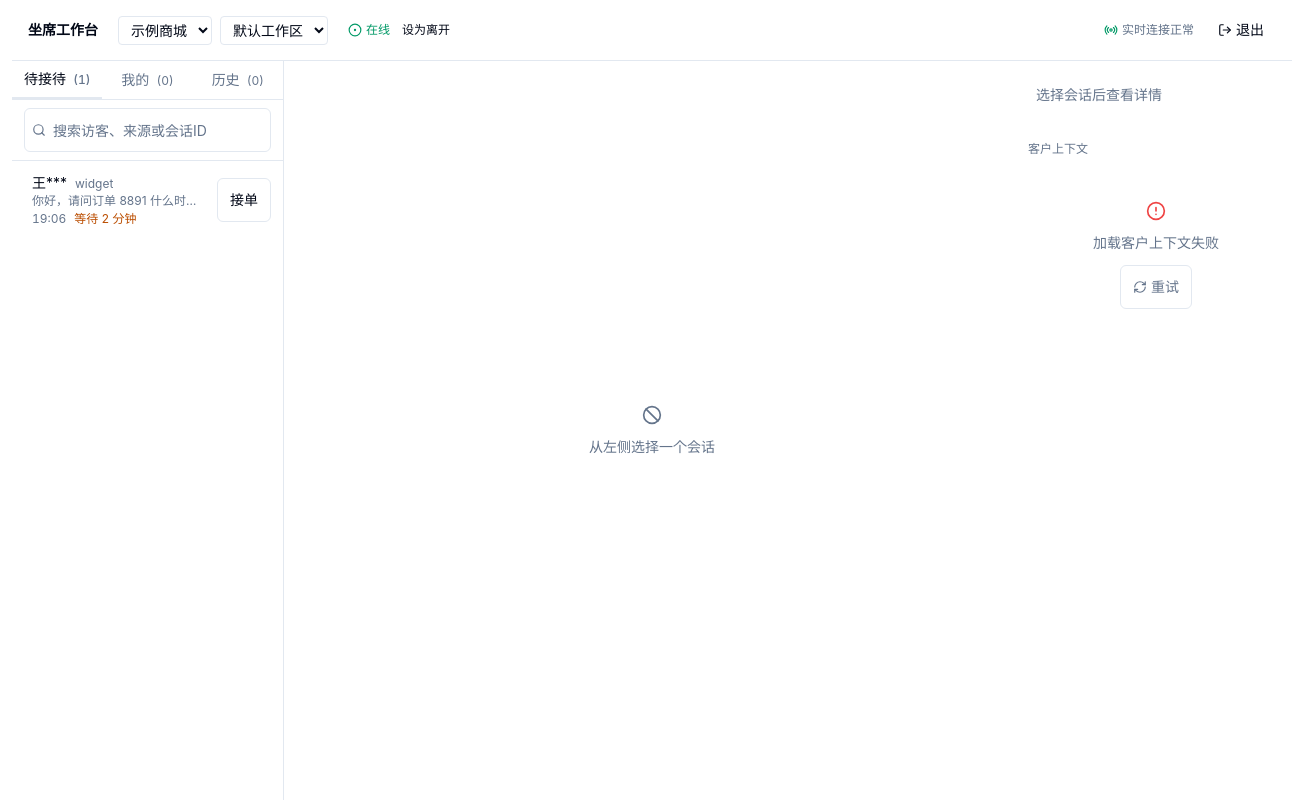
Test: seat org/ws 切换器（SeatWorkspacePage header，F12） › 切换 org：ws 列表刷新为新组织工作区（回落第一个）、选中会话清空、权威读取与 SSE 流切到新组织
The image size is (1292, 800).
Note: 先选中会话（详情按选中态加载），再切组织——验证切换清空选中态。
Click the button "王***widget 你好，请问订单 8891 什么时候发货 19:06 等待 2 分钟" at coordinates (116, 200), box [24, 169, 209, 231]
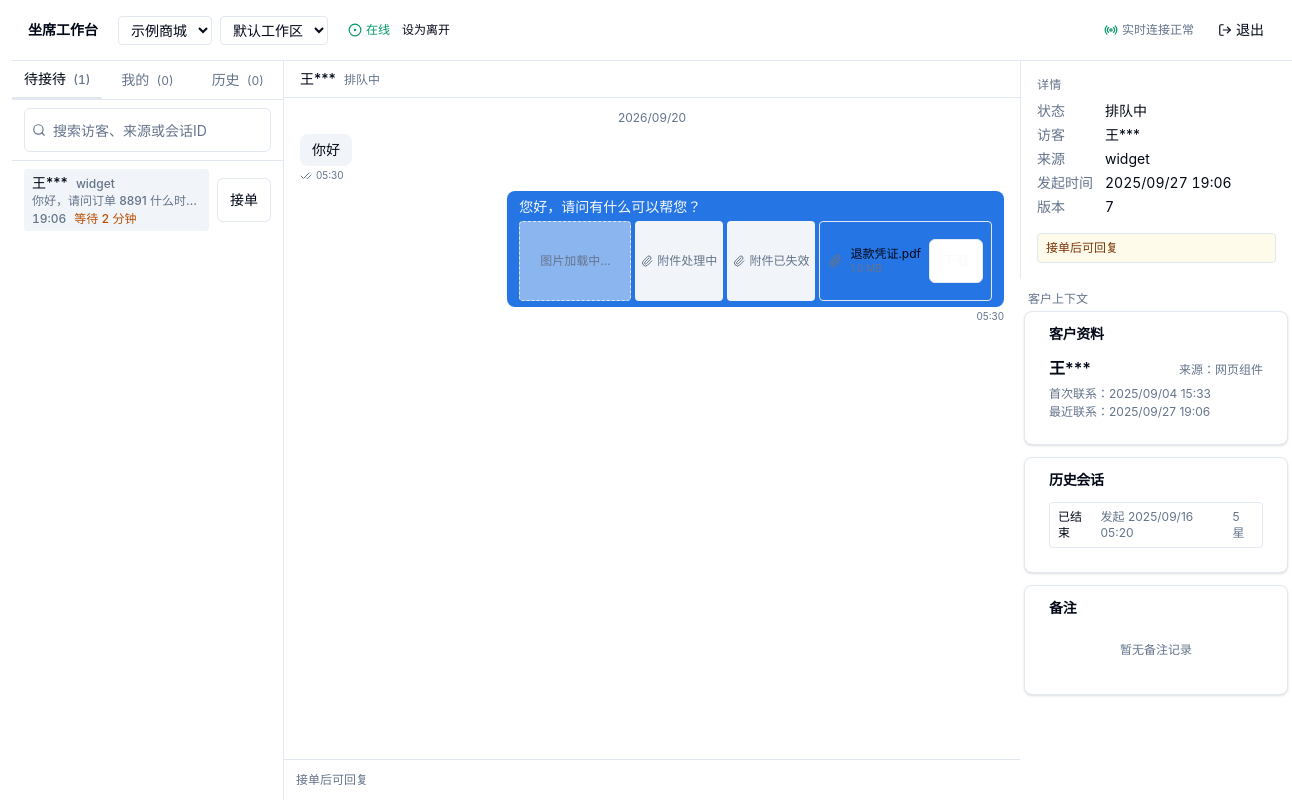
Result: the heading "王***排队中" is shown at [300, 69, 380, 89]
Select "示例企业" in the dropdown with test id "seat-org-select" at coordinates (165, 30), box [118, 16, 212, 44]
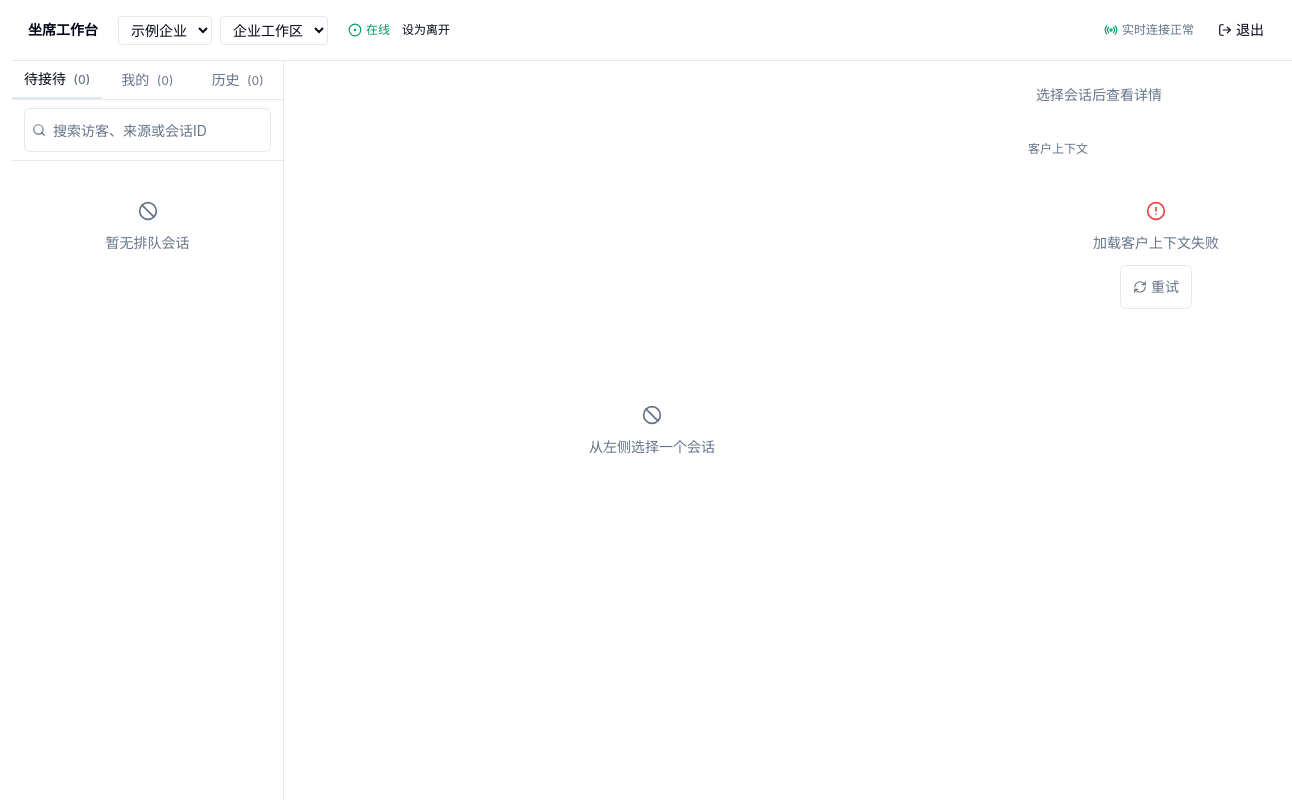
Result: the dropdown with test id "seat-ws-select" shows "企业工作区" at [220, 16, 328, 44]
Result: the heading with test id "seat-conversation-title" is gone
Result: the tab with test id "seat-tab-queued" shows "0" at [12, 61, 102, 99]
